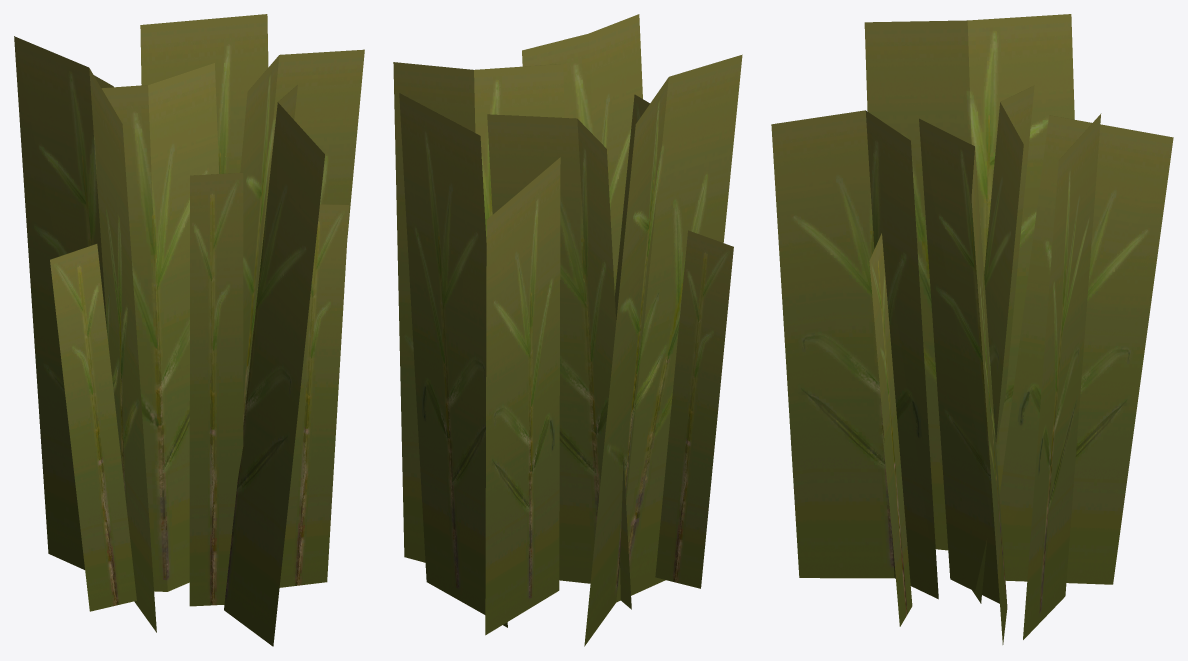
Rendered from bg_lut_foliage_lutbush03_sm_ksy.FBX.
3 renders of one model, left to right at view 1: azimuth 30°, elevation 25°; view 2: azimuth 150°, elevation 25°; view 3: azimuth 270°, elevation 25°, orthographic. The views are drawn at different scales.
Parts seen in each view (by area): view 1: bg_lut_foliage_lutbush03_sm_ksy; view 2: bg_lut_foliage_lutbush03_sm_ksy; view 3: bg_lut_foliage_lutbush03_sm_ksy.
Boxes of the visible parts, <box> form: bg_lut_foliage_lutbush03_sm_ksy: <box>14,14,364,646</box>; bg_lut_foliage_lutbush03_sm_ksy: <box>393,14,742,646</box>; bg_lut_foliage_lutbush03_sm_ksy: <box>771,14,1173,644</box>.
Bounding box in the file's own units: 149 × 237 × 165.
